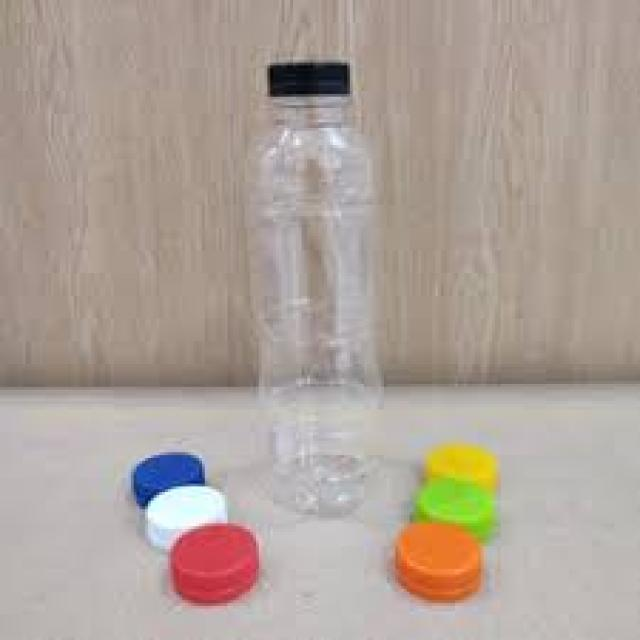bottle: (202, 35, 447, 532)
